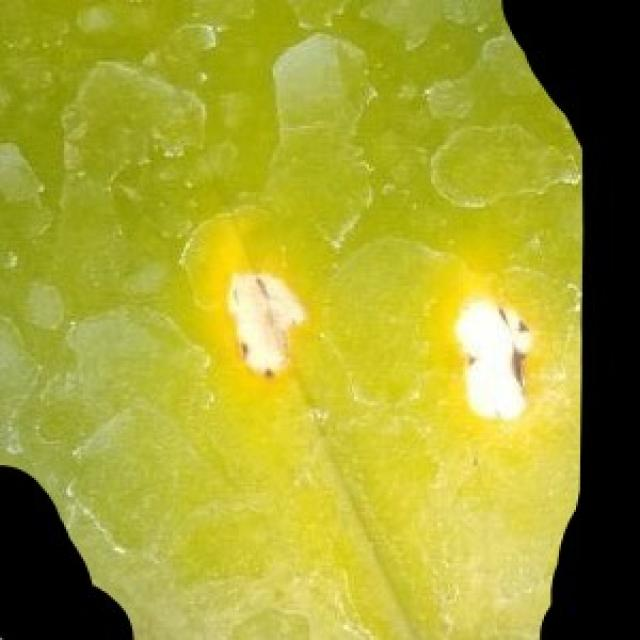mite: (0, 459, 137, 638), (0, 582, 134, 638), (169, 17, 220, 58), (70, 0, 119, 38), (237, 337, 250, 358), (260, 365, 275, 378)
